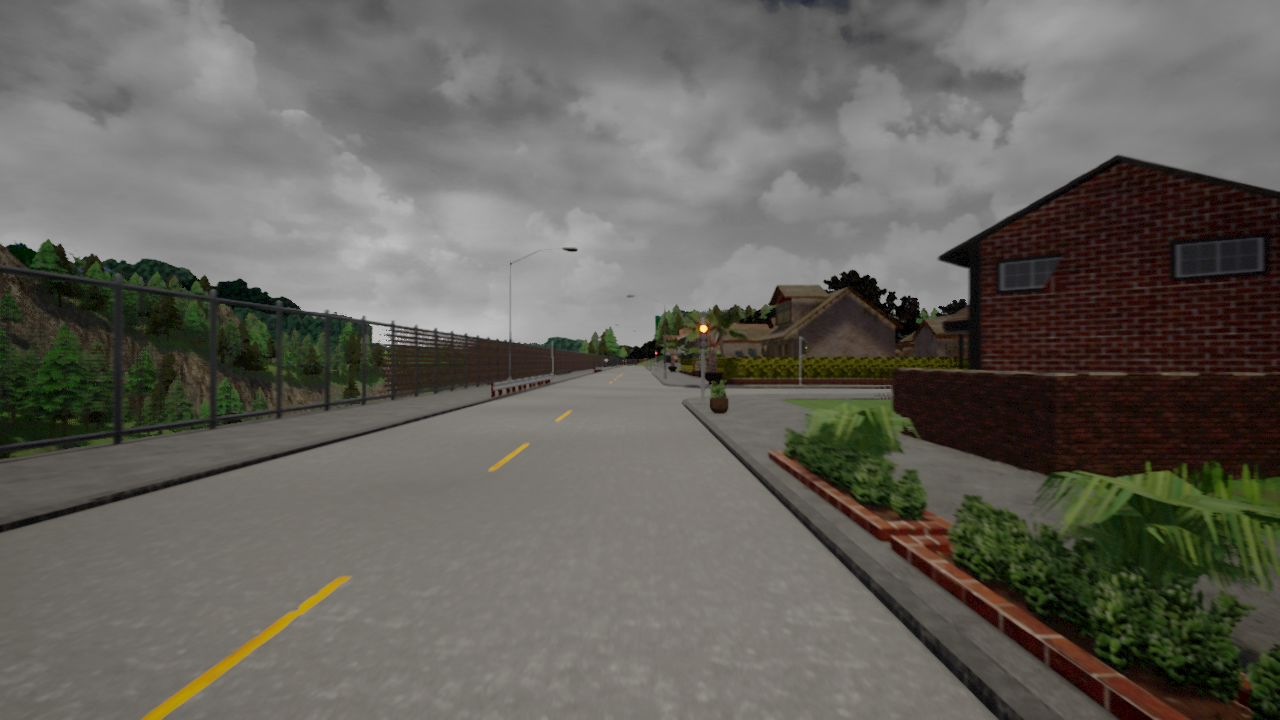red: (697, 323, 710, 349)
